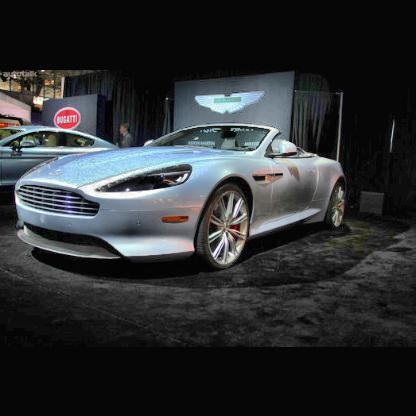Aston Martin Virage Convertible 2012: (13, 122, 351, 275)
